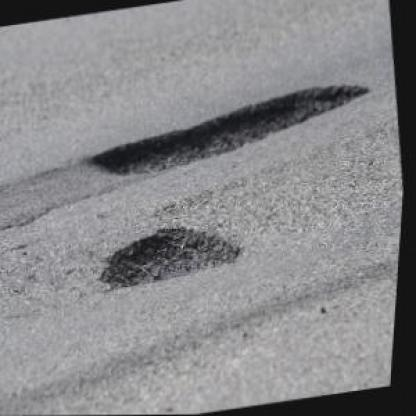pothole: (81, 78, 382, 184), (96, 216, 252, 297)
